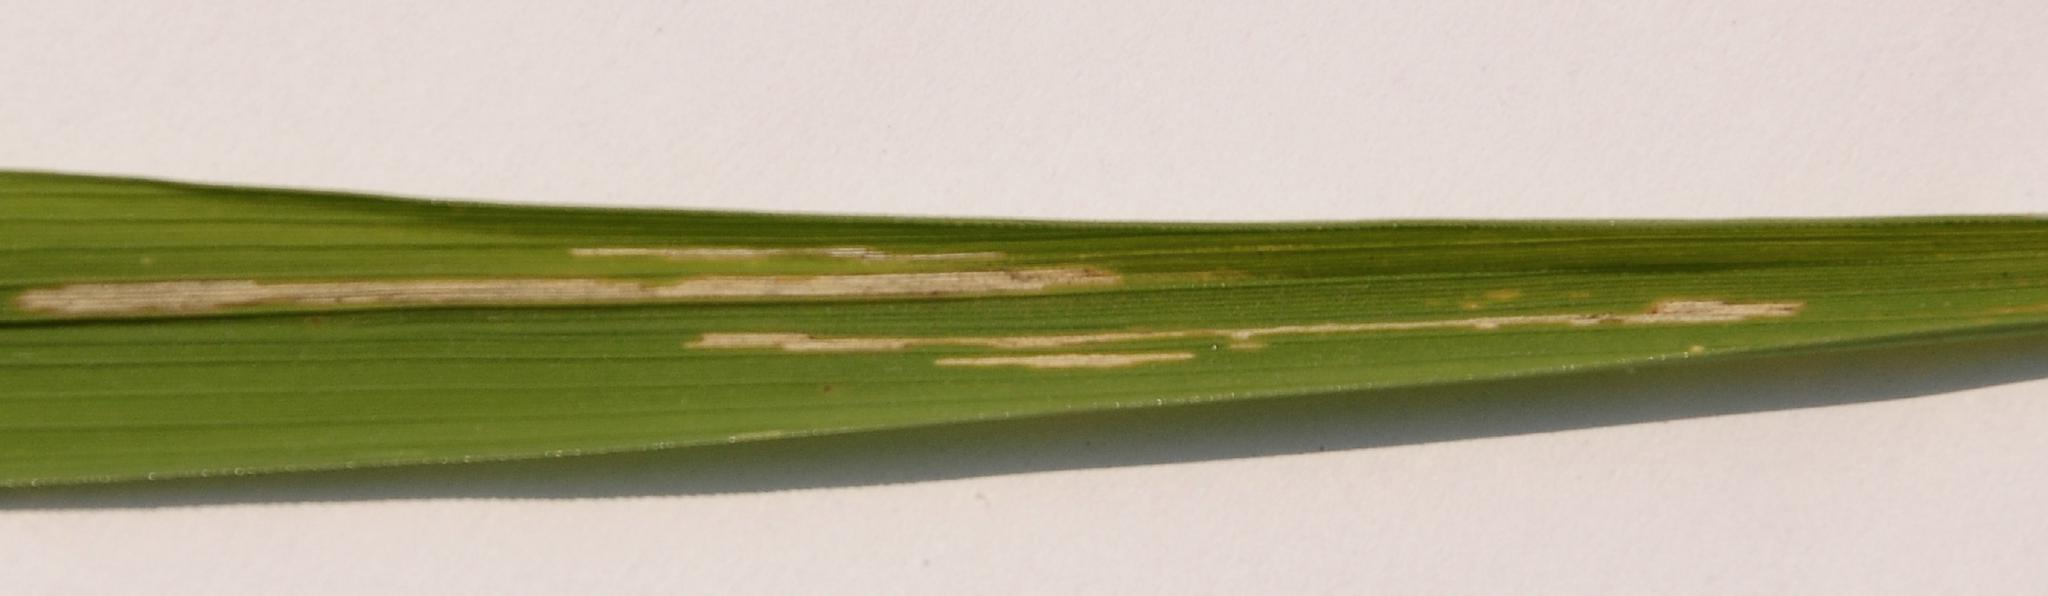2 BacterialBlight: (29, 216, 1882, 399)
